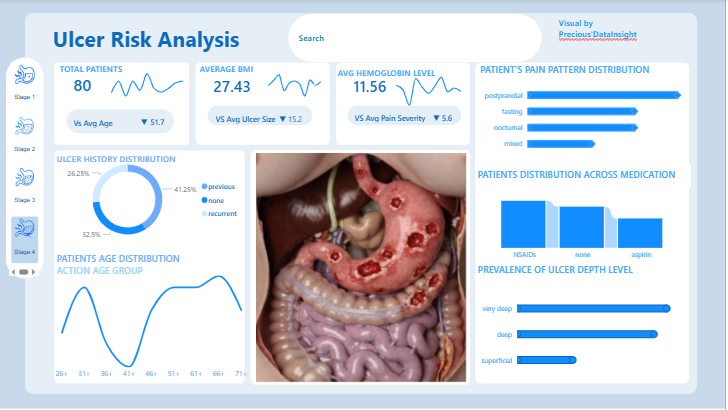

The page's visual inventory and layout, read from the dashboard file:
{"tool":"powerbi","page":{"name":"Page 1","canvas":[1280,720],"ordinal":0},"visuals":[{"type":"ChicletSlicer1448559807354","fields":{"Category":["Ulcer Image Dataset.Ulcer_stage"],"Image":["Ulcer Image Dataset.Icon_Url"]},"box":[20.2,100.8,62.2,391.4],"z":0},{"type":"cardVisual","fields":{"Data":["CountNonNull(Ulcer Dataset.patient_id)"]},"box":[98.1,113.8,246.9,150.6],"z":1000},{"type":"cardVisual","fields":{"Data":["Count(Ulcer Dataset.patient_id)"]},"box":[110.6,113.4,96.4,68],"z":2000},{"type":"lineChart","fields":{"Category":["Ulcer Dataset.Date of Diagnosis.Variation.Date Hierarchy.Year"],"Y":["CountNonNull(Ulcer Dataset.patient_id)"]},"box":[190.9,113.8,154.1,68.3],"z":3000},{"type":"textbox","box":[110.3,106.8,133.1,42],"z":4000},{"type":"cardVisual","fields":{"Data":["CountNonNull(Ulcer Dataset.patient_id)"]},"box":[345,113.8,241.6,136.6],"z":5000},{"type":"cardVisual","fields":{"Data":["Avg(Ulcer Dataset.bmi)"]},"box":[355.5,119.1,127.8,61.3],"z":6000},{"type":"lineChart","fields":{"Category":["Ulcer Dataset.Date of Diagnosis.Variation.Date Hierarchy.Year"],"Y":["Avg(Ulcer Dataset.bmi)"]},"box":[465.8,113.8,120.8,68.3],"z":7000},{"type":"cardVisual","fields":{"Data":["CountNonNull(Ulcer Dataset.patient_id)"]},"box":[590.1,113.8,257.4,136.6],"z":8000},{"type":"cardVisual","fields":{"Data":["Avg(Ulcer Dataset.hemoglobin_g_dl)"]},"box":[600.1,118.6,127.8,61.3],"z":9000},{"type":"lineChart","fields":{"Category":["Ulcer Dataset.Date of Diagnosis.Variation.Date Hierarchy.Year"],"Y":["Avg(Ulcer Dataset.hemoglobin_g_dl)"]},"box":[689.9,119.1,141.8,77],"z":10000},{"type":"textbox","box":[597.1,113.8,234.6,36.8],"z":11000},{"type":"textbox","box":[355.5,106.8,115.6,33.3],"z":12000},{"type":"donutChart","fields":{"Category":["Ulcer Dataset.ulcer_history"],"Y":["Count(Ulcer Dataset.patient_id)"]},"box":[99.8,264.4,339.7,173.4],"z":13000},{"type":"imageDB603108E3FF4EBFB8047F5653368E8C","fields":{"imageUrl":["Ulcer Image Dataset.Image_Url"]},"box":[453.5,264.4,378.2,411.5],"z":14000},{"type":"textbox","box":[105.1,264.4,234.6,35],"z":15000},{"type":"lineChart","fields":{"Category":["Ulcer Dataset.Age Group"],"Y":["CountNonNull(Ulcer Dataset.patient_id)"]},"box":[98.1,471,355.5,203.1],"z":16000},{"type":"textbox","box":[105.1,437.8,332.7,56],"z":17000},{"type":"clusteredBarChart","fields":{"Category":["Ulcer Dataset.ulcer_depth"],"Y":["CountNonNull(Ulcer Dataset.patient_id)"]},"box":[842.2,493.8,378.2,180.4],"z":18000},{"type":"textbox","box":[842.2,457,378.2,36.8],"z":19000},{"type":"textbox","box":[842.2,290.7,378.2,38.5],"z":20000},{"type":"columnChart","fields":{"Category":["Ulcer Dataset.med_type"],"Y":["CountNonNull(Ulcer Dataset.patient_id)"]},"box":[842.2,318.7,378.2,147.1],"z":21000},{"type":"barChart","fields":{"Category":["Ulcer Dataset.pain_pattern"],"Y":["CountNonNull(Ulcer Dataset.patient_id)"]},"box":[847.5,133.1,373,148.8],"z":22000},{"type":"textbox","box":[842.2,106.8,378.2,43.8],"z":23000},{"type":"shape","box":[514.8,26.3,444.8,84],"z":23001},{"type":"textbox","box":[528.8,52.5,143.6,31.5],"z":23002},{"type":"textbox","box":[98.1,38.5,429,63],"z":23003},{"type":"textbox","box":[984.1,26.3,236.4,70],"z":23004}]}

Visuals, with their boxes in screenshot pixels (x1, y1, x2, y2), scaled from the page's 1280x720 canvas onto the 728x410 screenshot:
ChicletSlicer1448559807354 - Ulcer Image Dataset.Ulcer_stage x Ulcer Image Dataset.Icon_Url: 11/57/47/280
cardVisual - CountNonNull(Ulcer Dataset.patient_id): 56/65/196/151
cardVisual - Count(Ulcer Dataset.patient_id): 63/65/118/103
lineChart - Ulcer Dataset.Date of Diagnosis.Variation.Date Hierarchy.Year x CountNonNull(Ulcer Dataset.patient_id): 109/65/196/104
textbox: 63/61/138/85
cardVisual - CountNonNull(Ulcer Dataset.patient_id): 196/65/334/143
cardVisual - Avg(Ulcer Dataset.bmi): 202/68/275/103
lineChart - Ulcer Dataset.Date of Diagnosis.Variation.Date Hierarchy.Year x Avg(Ulcer Dataset.bmi): 265/65/334/104
cardVisual - CountNonNull(Ulcer Dataset.patient_id): 336/65/482/143
cardVisual - Avg(Ulcer Dataset.hemoglobin_g_dl): 341/68/414/102
lineChart - Ulcer Dataset.Date of Diagnosis.Variation.Date Hierarchy.Year x Avg(Ulcer Dataset.hemoglobin_g_dl): 392/68/473/112
textbox: 340/65/473/86
textbox: 202/61/268/80
donutChart - Ulcer Dataset.ulcer_history x Count(Ulcer Dataset.patient_id): 57/151/250/249
imageDB603108E3FF4EBFB8047F5653368E8C - Ulcer Image Dataset.Image_Url: 258/151/473/385
textbox: 60/151/193/170
lineChart - Ulcer Dataset.Age Group x CountNonNull(Ulcer Dataset.patient_id): 56/268/258/384
textbox: 60/249/249/281
clusteredBarChart - Ulcer Dataset.ulcer_depth x CountNonNull(Ulcer Dataset.patient_id): 479/281/694/384
textbox: 479/260/694/281
textbox: 479/166/694/187
columnChart - Ulcer Dataset.med_type x CountNonNull(Ulcer Dataset.patient_id): 479/181/694/265
barChart - Ulcer Dataset.pain_pattern x CountNonNull(Ulcer Dataset.patient_id): 482/76/694/161
textbox: 479/61/694/86
shape: 293/15/546/63
textbox: 301/30/382/48
textbox: 56/22/300/58
textbox: 560/15/694/55
